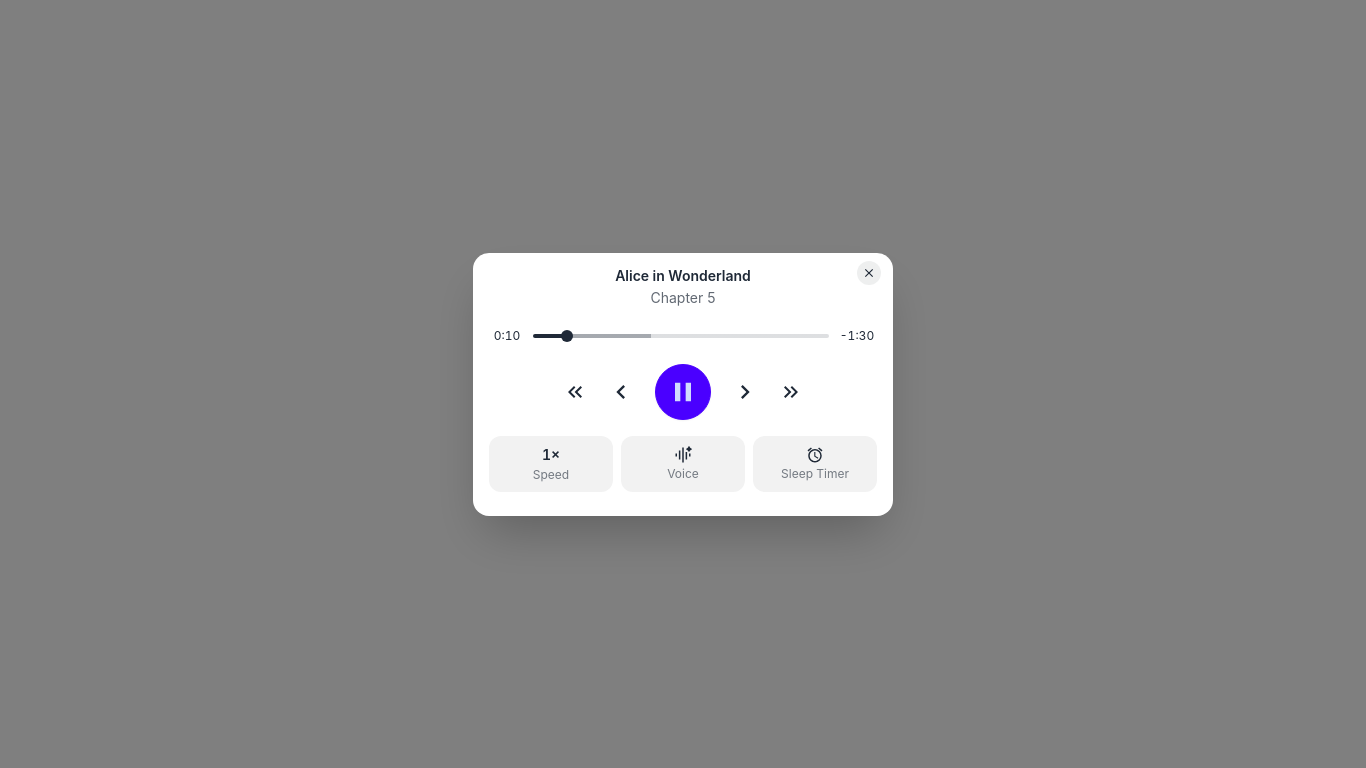
TTSPlayerSheet › gap control is absent for a non-Edge client (hasGapControl false)
Click the button labelled "1× Speed": (551, 464) [489,436,613,492]
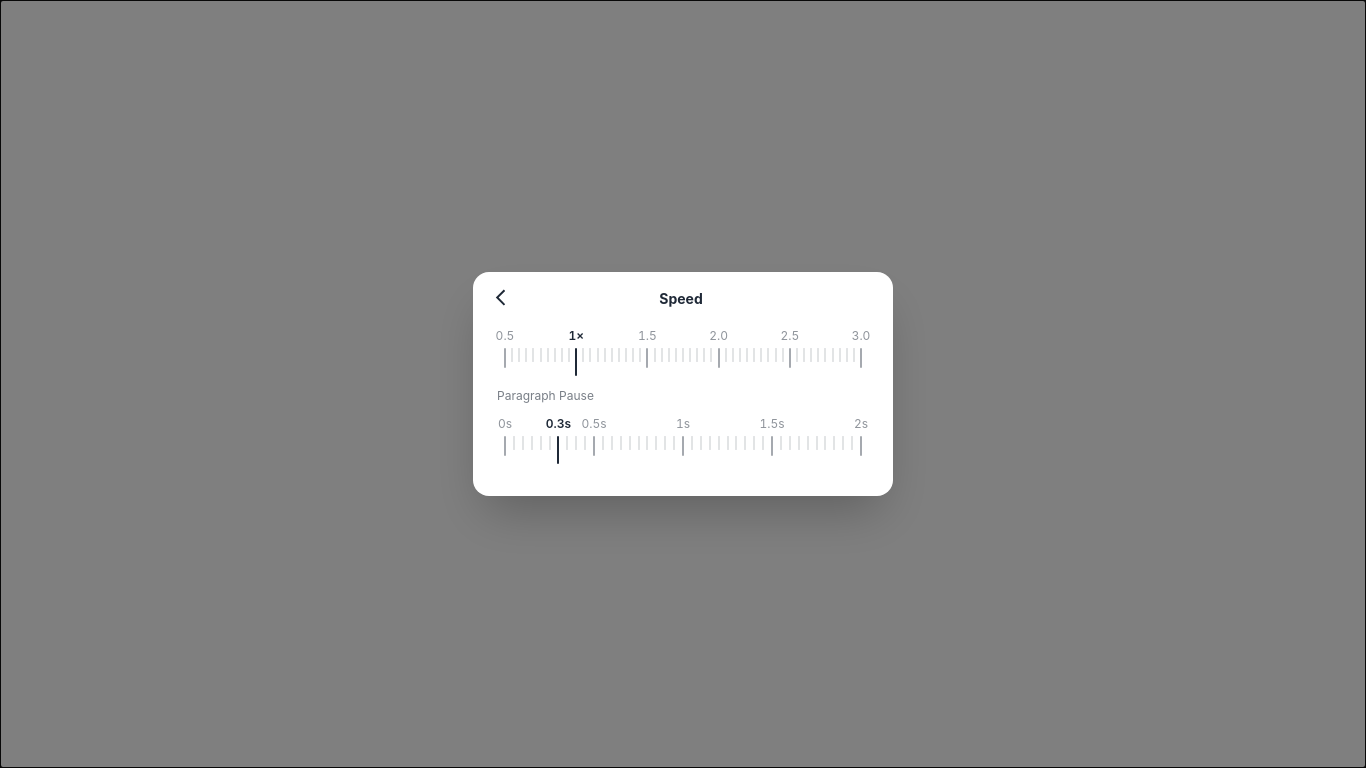
expect the button "Sentence Pause" is gone: met
